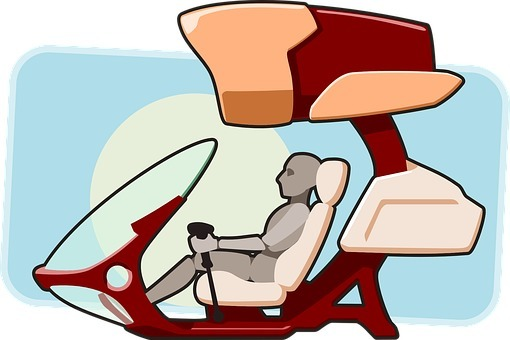chair: (193, 164, 350, 307)
person: (142, 138, 321, 316)
